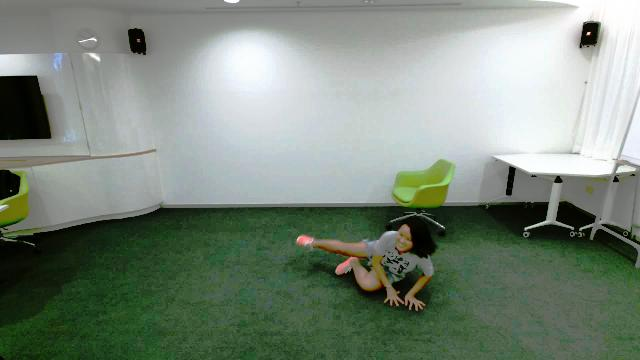jatuh: (286, 211, 440, 314)
